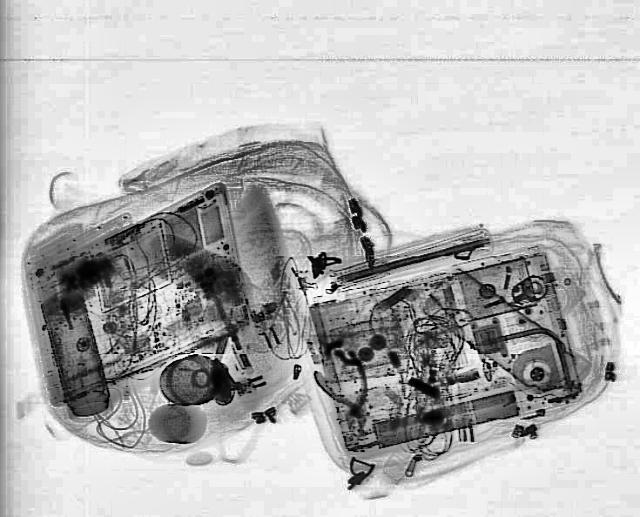Pliers: (309, 358, 383, 434)
